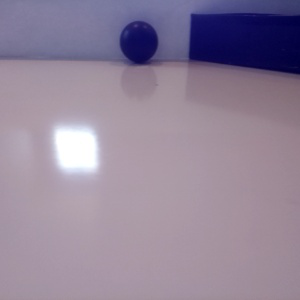zone: (189, 13, 300, 75)
